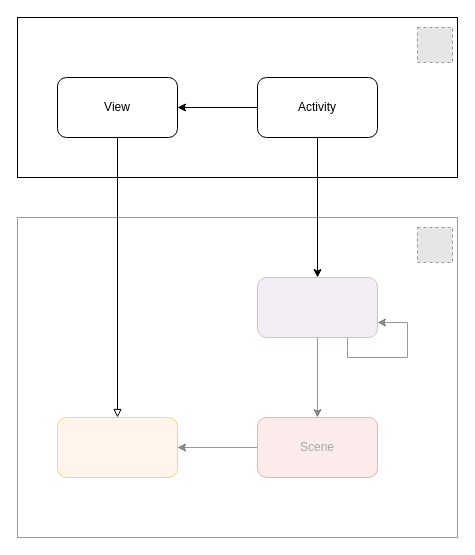
Some shapes in this 475 by 555 pixel diagram are drawn without their labels. Grey dashed boxes stand in for pictures. Each missing label, with the centre of its shape:
Container: the point at 117,447
Navigator: the point at 317,307
